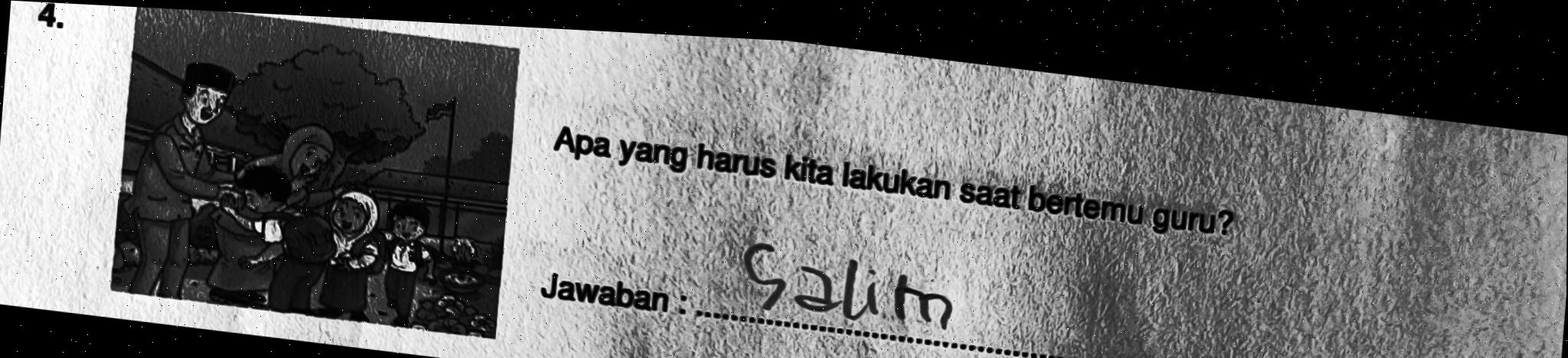jawaban: (733, 235, 978, 350)
